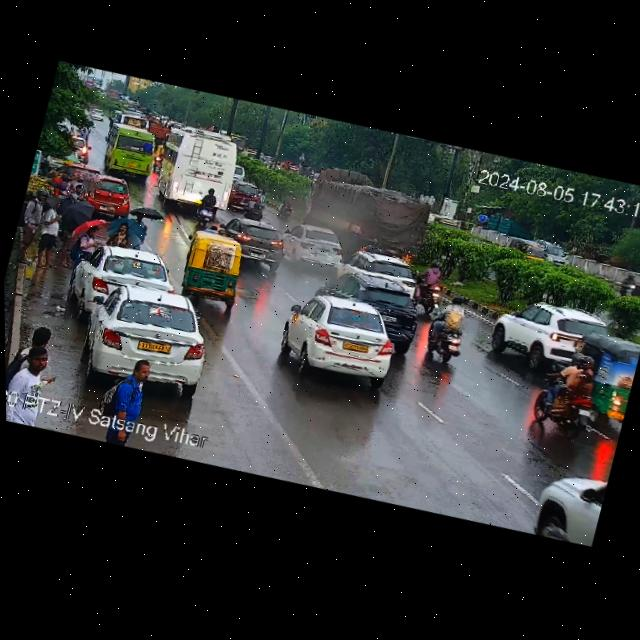bus: (141, 118, 250, 229), (94, 119, 162, 185), (109, 105, 151, 131)
car: (65, 271, 218, 404), (278, 282, 417, 398), (483, 286, 627, 383), (316, 258, 437, 353), (70, 233, 182, 321), (564, 328, 640, 426), (176, 222, 258, 312), (528, 460, 606, 548), (201, 209, 296, 279), (335, 239, 425, 291), (279, 217, 347, 271), (77, 170, 134, 219), (507, 234, 553, 267), (613, 262, 640, 306), (227, 181, 261, 214), (87, 106, 107, 124), (232, 164, 248, 182)
motorcycle: (525, 338, 611, 440), (413, 285, 477, 372), (410, 256, 461, 314), (190, 184, 227, 228), (275, 187, 297, 219), (246, 200, 264, 222), (254, 188, 266, 201), (248, 195, 259, 208)
person: (105, 350, 157, 425), (7, 186, 49, 267), (28, 197, 69, 272), (12, 339, 59, 399), (12, 316, 56, 378), (64, 222, 104, 284), (126, 211, 156, 239), (105, 219, 131, 249), (68, 181, 88, 208), (54, 170, 72, 194)
